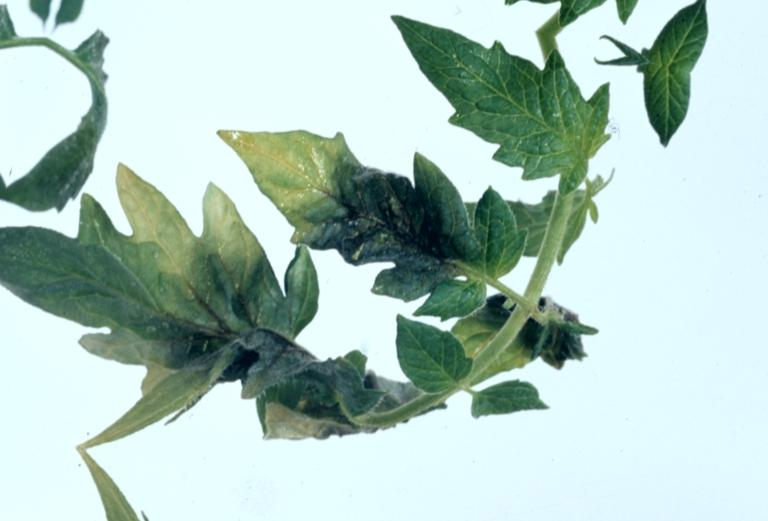Tomato leaf late blight: (0, 135, 342, 408), (182, 92, 540, 331), (342, 4, 658, 222)
